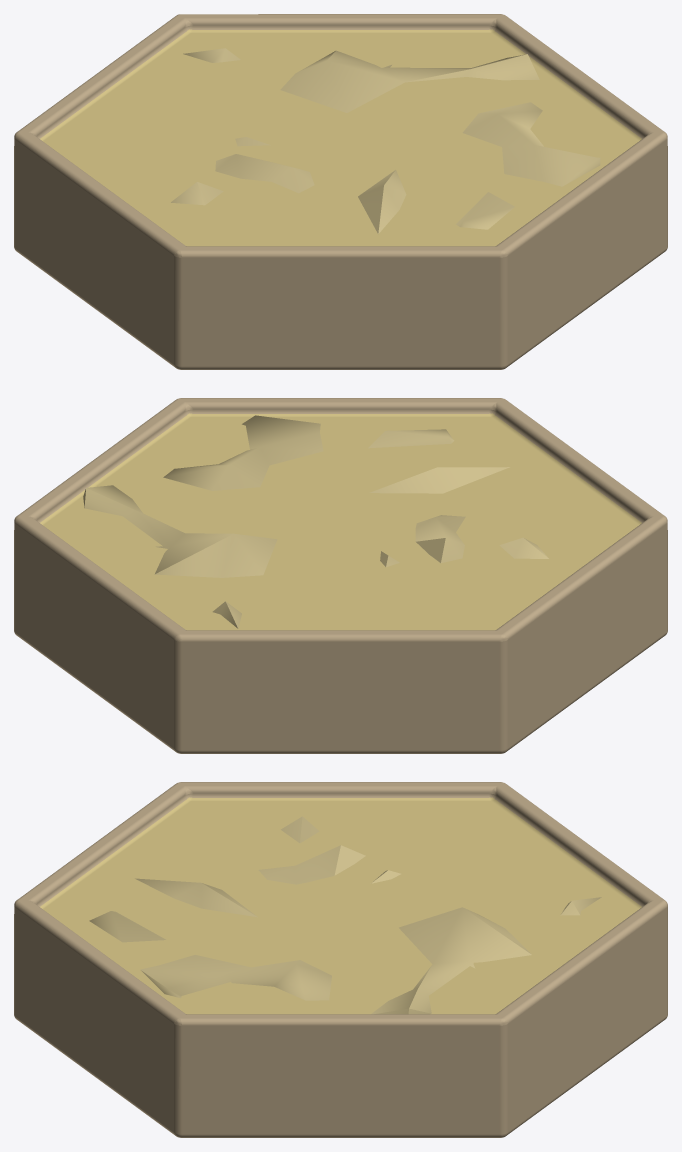
File: desert_base_update.fbx
3 views of the same model, one above another, from view 1: azimuth 30°, elevation 25°; view 2: azimuth 150°, elevation 25°; view 3: azimuth 270°, elevation 25° (orthographic).
Visible parts, largest first — view 1: desert base, sand; view 2: desert base, sand; view 3: desert base, sand.
Part boxes in pixels (left/top/right/bottom): desert base: left=14, top=14, right=667, bottom=369; sand: left=171, top=48, right=600, bottom=234; desert base: left=14, top=398, right=667, bottom=753; sand: left=83, top=415, right=548, bottom=628; desert base: left=14, top=782, right=667, bottom=1137; sand: left=89, top=816, right=601, bottom=1014.
Size of the model in its own units: 866 by 227 by 996.
